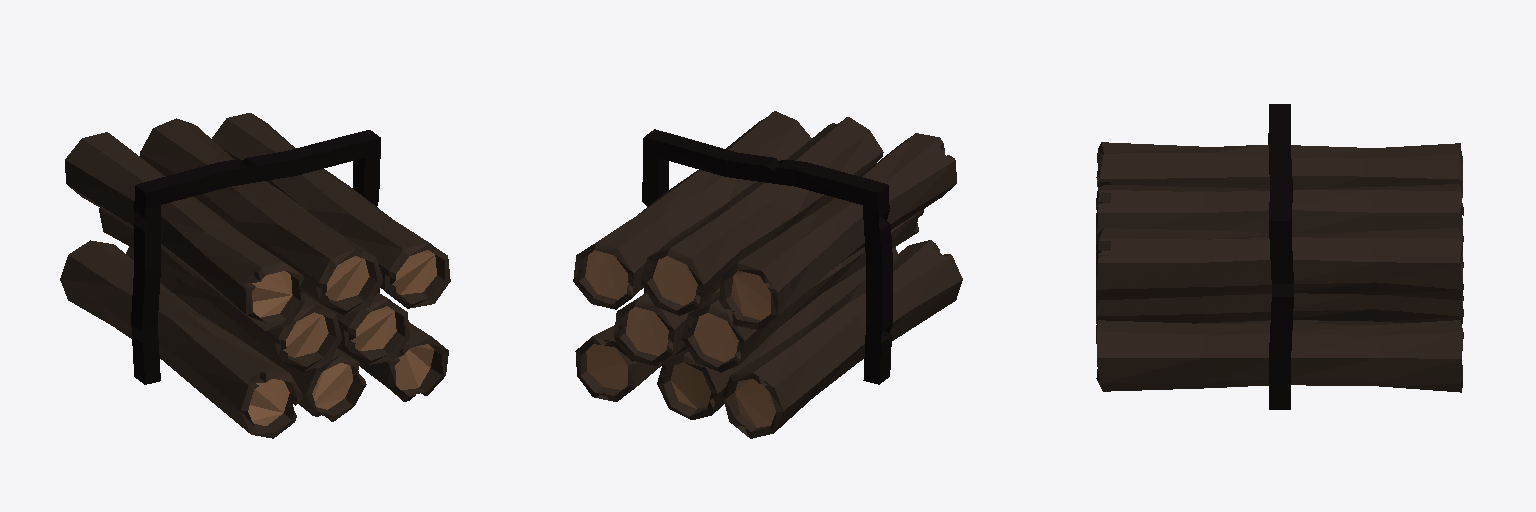
Rendered from Wood.obj.
3 views of the same model, side by side, from view 1: azimuth 30°, elevation 25°; view 2: azimuth 150°, elevation 25°; view 3: azimuth 270°, elevation 25° (orthographic).
Visible parts, largest first — view 1: Cube.002_Cube.001; view 2: Cube.002_Cube.001; view 3: Cube.002_Cube.001.
Part boxes in pixels (bbox=[...]): Cube.002_Cube.001: bbox=[60, 113, 450, 438]; Cube.002_Cube.001: bbox=[573, 111, 962, 438]; Cube.002_Cube.001: bbox=[1096, 104, 1463, 409].
Bounding box in the file's own units: 1.63 × 1.28 × 2.18.